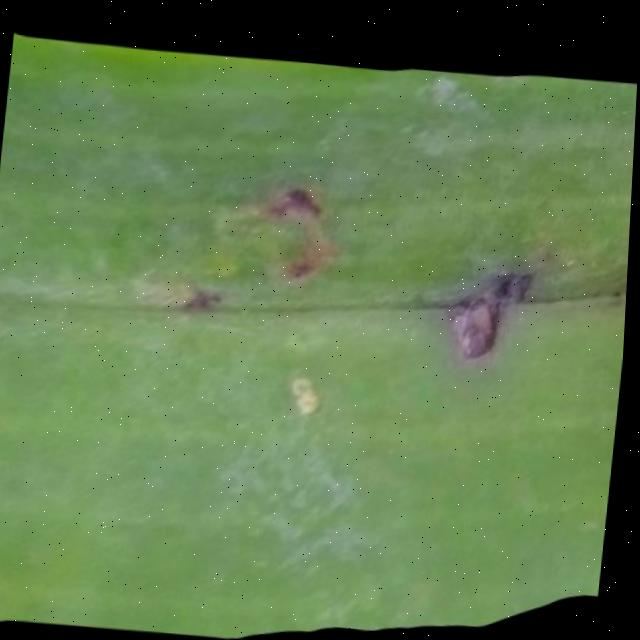mite: (143, 155, 561, 463), (181, 172, 351, 327), (279, 364, 338, 426), (177, 277, 236, 323), (493, 264, 539, 305), (184, 286, 230, 316), (286, 184, 323, 211), (495, 272, 521, 299)
sunburn: (439, 255, 542, 366)
